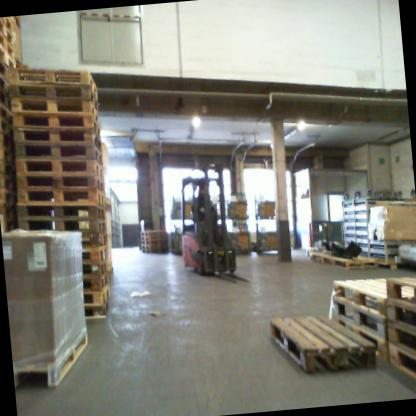forklift: (170, 149, 257, 293)
pallet: (263, 306, 378, 381), (10, 325, 89, 395), (331, 266, 416, 321), (7, 60, 99, 107), (10, 107, 100, 145), (11, 77, 98, 115), (15, 135, 104, 170), (17, 181, 106, 216), (15, 124, 103, 158), (17, 196, 107, 228), (16, 167, 105, 199), (337, 318, 393, 366), (334, 295, 391, 342), (17, 153, 103, 183), (15, 100, 99, 130), (306, 242, 379, 276), (385, 315, 416, 365), (386, 341, 416, 392), (44, 216, 108, 238), (386, 298, 416, 340), (382, 275, 416, 309), (79, 285, 113, 309), (82, 299, 113, 320), (77, 245, 111, 264), (83, 257, 111, 279), (0, 21, 16, 59), (81, 233, 111, 252), (80, 274, 110, 290), (0, 43, 16, 71), (0, 83, 14, 115), (0, 148, 15, 170), (0, 102, 14, 124), (0, 201, 16, 220), (0, 117, 14, 138), (0, 19, 17, 36), (0, 188, 15, 206), (0, 57, 11, 81), (0, 73, 11, 95), (102, 196, 115, 214), (0, 163, 15, 178), (140, 228, 168, 236), (0, 132, 13, 149), (0, 176, 17, 189), (6, 221, 20, 236), (142, 246, 167, 254), (141, 238, 167, 245), (141, 234, 168, 240), (142, 242, 168, 248), (11, 99, 13, 101)
stillage: (251, 188, 282, 224), (226, 185, 252, 222), (249, 224, 286, 250), (169, 193, 197, 225), (229, 220, 253, 256), (172, 227, 192, 254)
